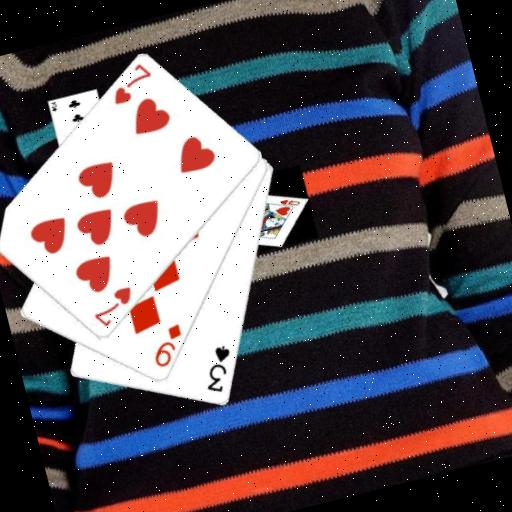3S: (195, 341, 242, 398)
7H: (104, 58, 159, 109), (85, 282, 140, 332)
9D: (144, 321, 191, 372)
